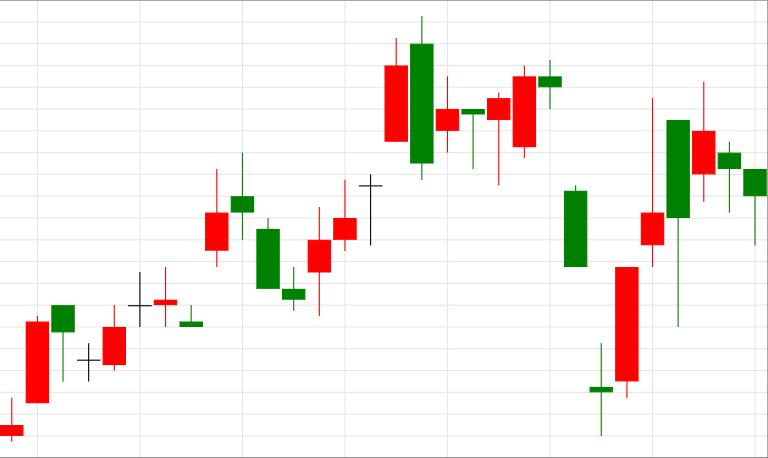bearish_engulfing_fall: (283, 17, 433, 315)
